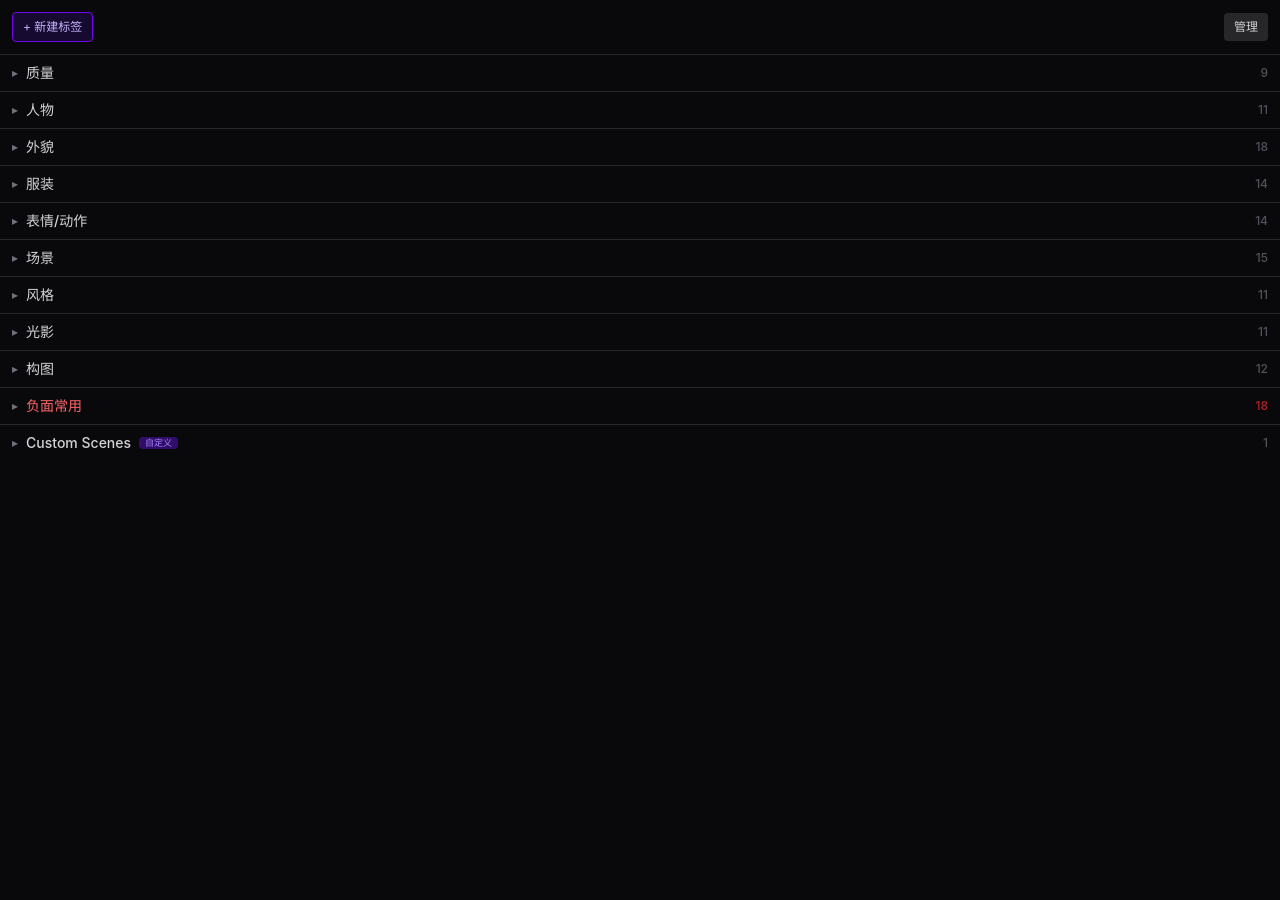
Test case: TagLibrary custom tags › deletes a custom tag from the manage modal
This screenshot has width=1280, height=900.
Click the button "管理" at (1246, 27), box [1224,13,1268,41]
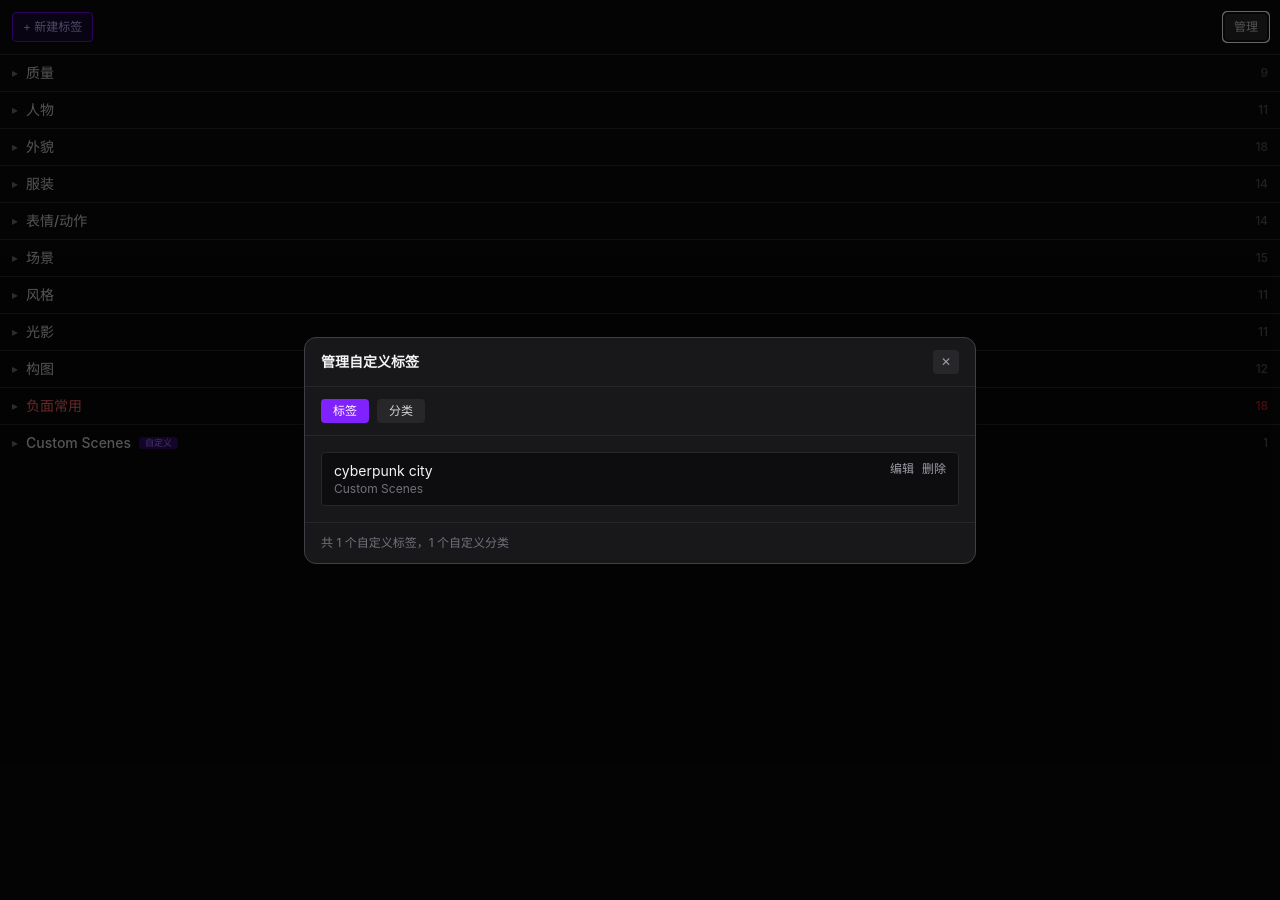
Click the button named "删除标签 cyberpunk city" at (934, 468), box [922,460,946,476]
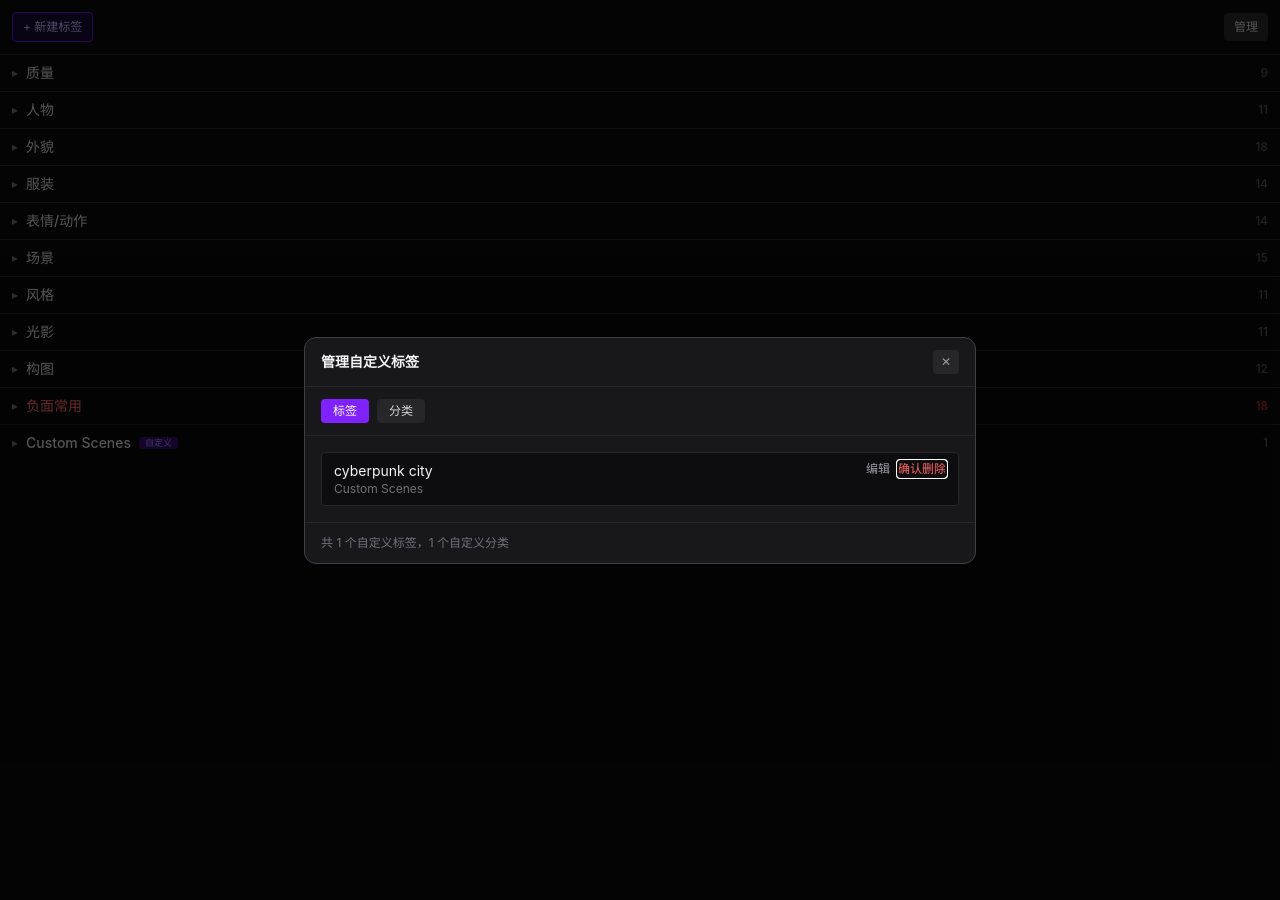
Click the button named "确认删除标签 cyberpunk city" at (922, 468), box [898,460,946,476]
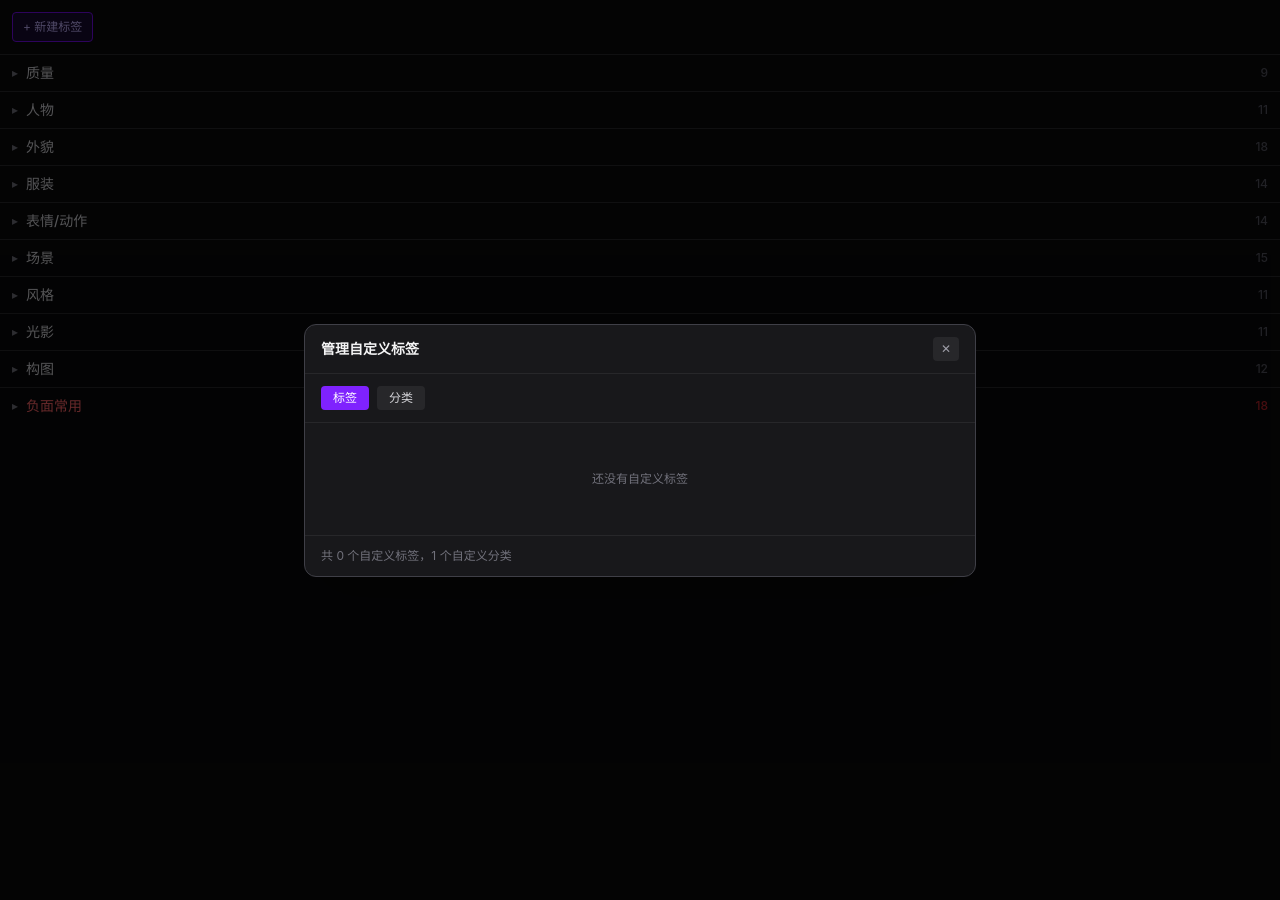
Expected: the text "还没有自定义标签" is shown, [592,470,688,486]
